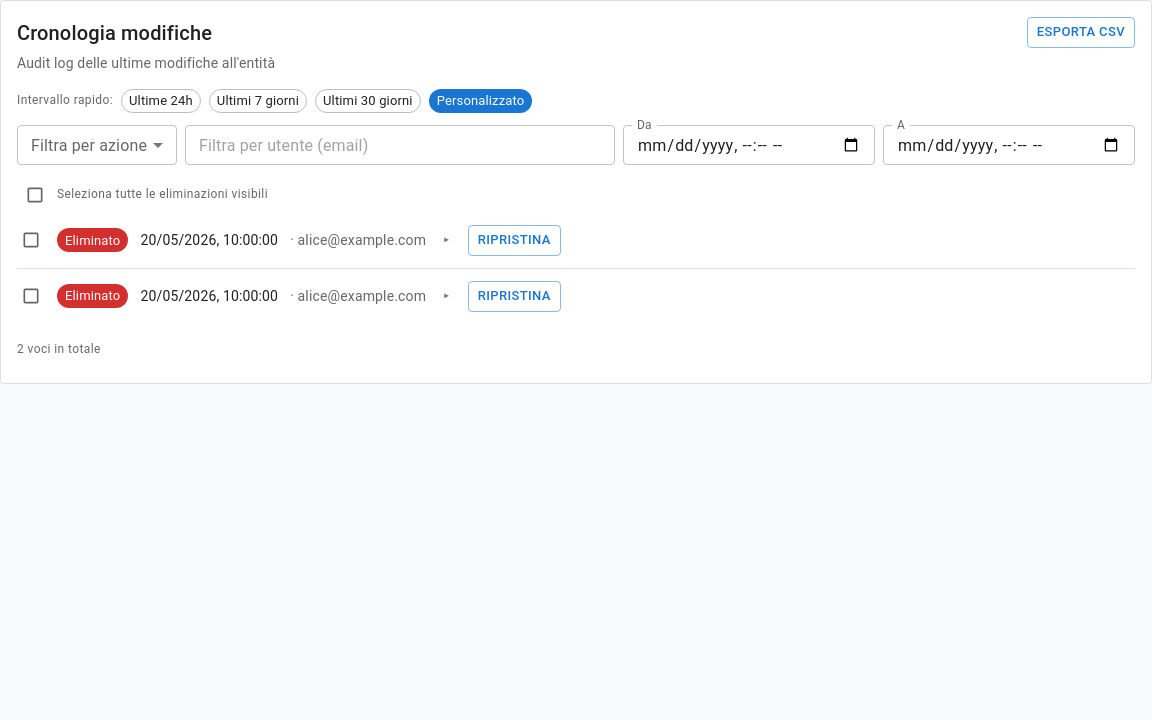
Test: AuditHistoryPanel › bulk revert: confirm dialog → Promise.all(revertAudit) + success toast all-OK
Check: the text "Eliminato" is shown 2 times, box [65,233,120,248]; [65,288,120,303]
Click the checkbox named "Seleziona voce di cronologia Trait:trait-1" at (31, 240), box [21,230,41,250]
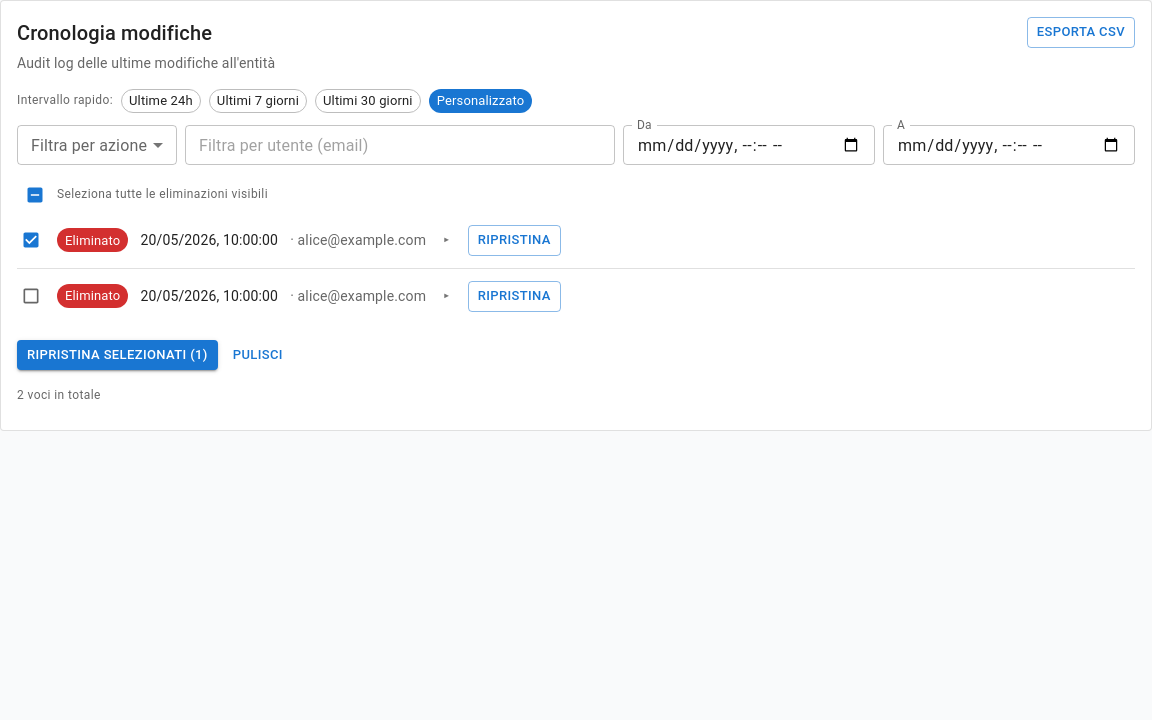
Click the checkbox named "Seleziona voce di cronologia Trait:trait-2" at (31, 296), box [21,286,41,306]
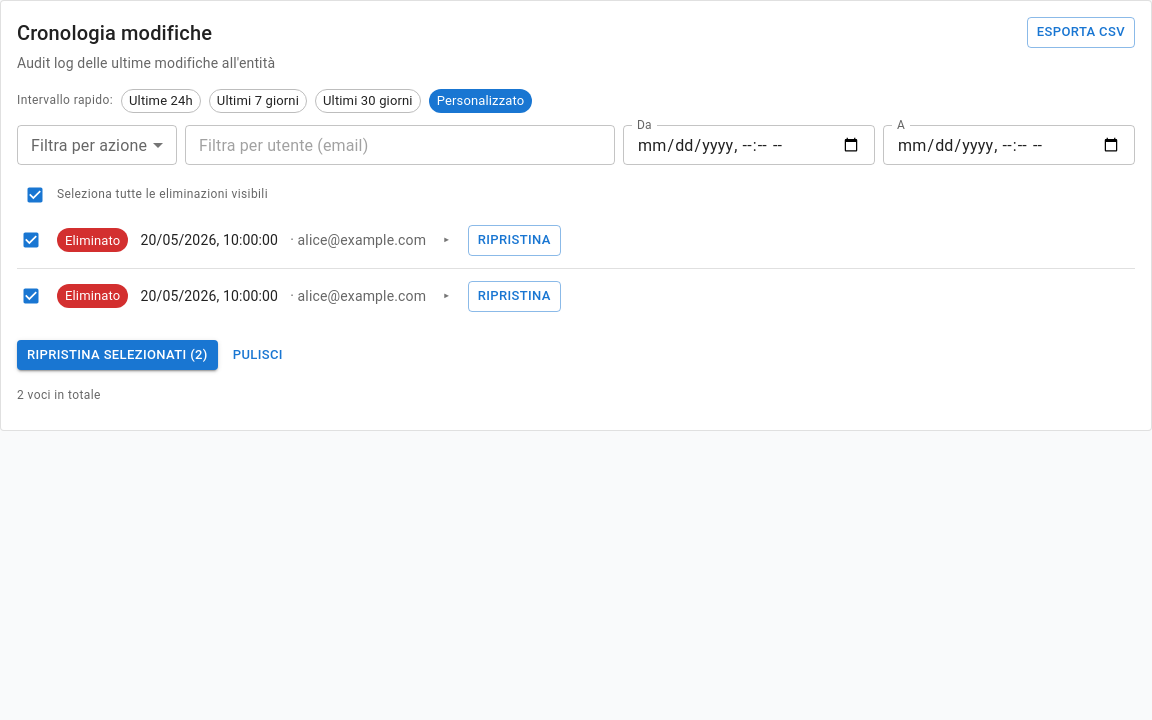
Click the button "Ripristina selezionati (2)" at (117, 355), box [17,340,218,370]
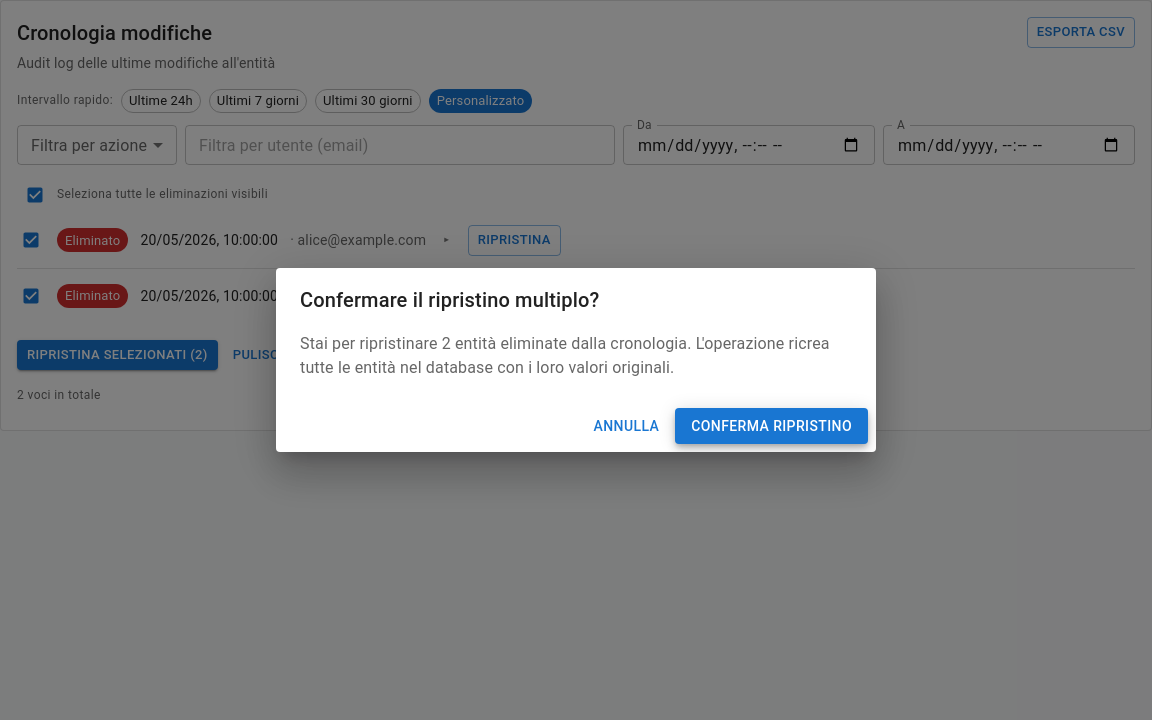
Check: the heading "Confermare il ripristino multiplo?" is shown, box [300,288,599,312]
Check: the text "2 entità eliminate" is shown, box [300,334,830,377]
Click the button "Conferma ripristino" at (772, 426), box [675,408,868,444]
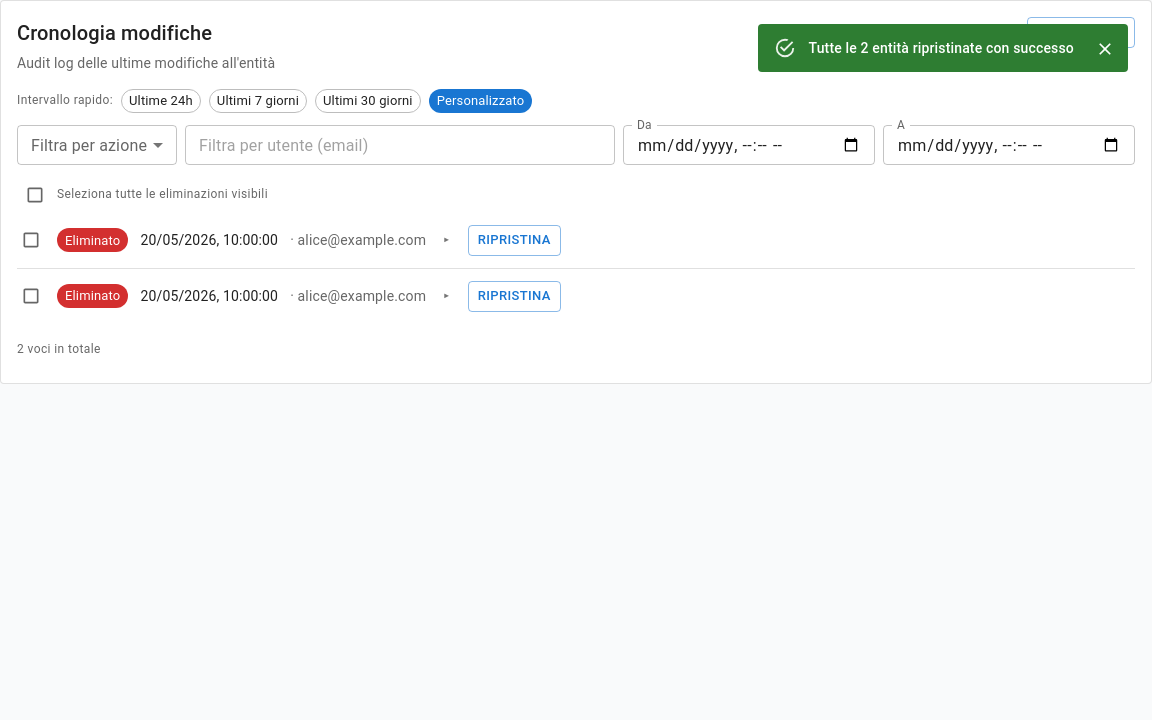
Check: the text "Tutte le 2 entità ripristinate con successo" is shown, box [808,40,1074,56]
